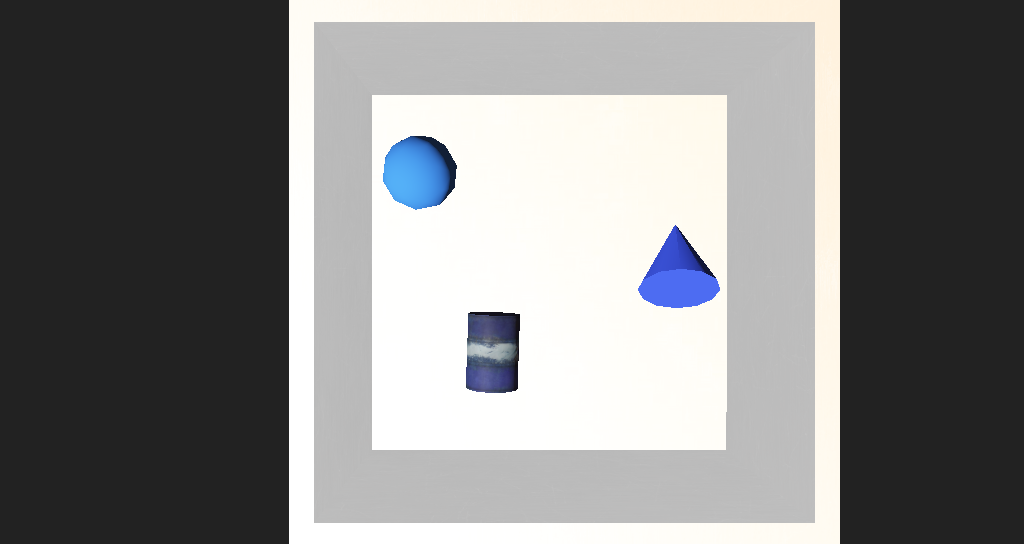cone: (435, 291, 482, 339)
cylinder: (566, 224, 660, 291)
sphere: (367, 188, 428, 231)
